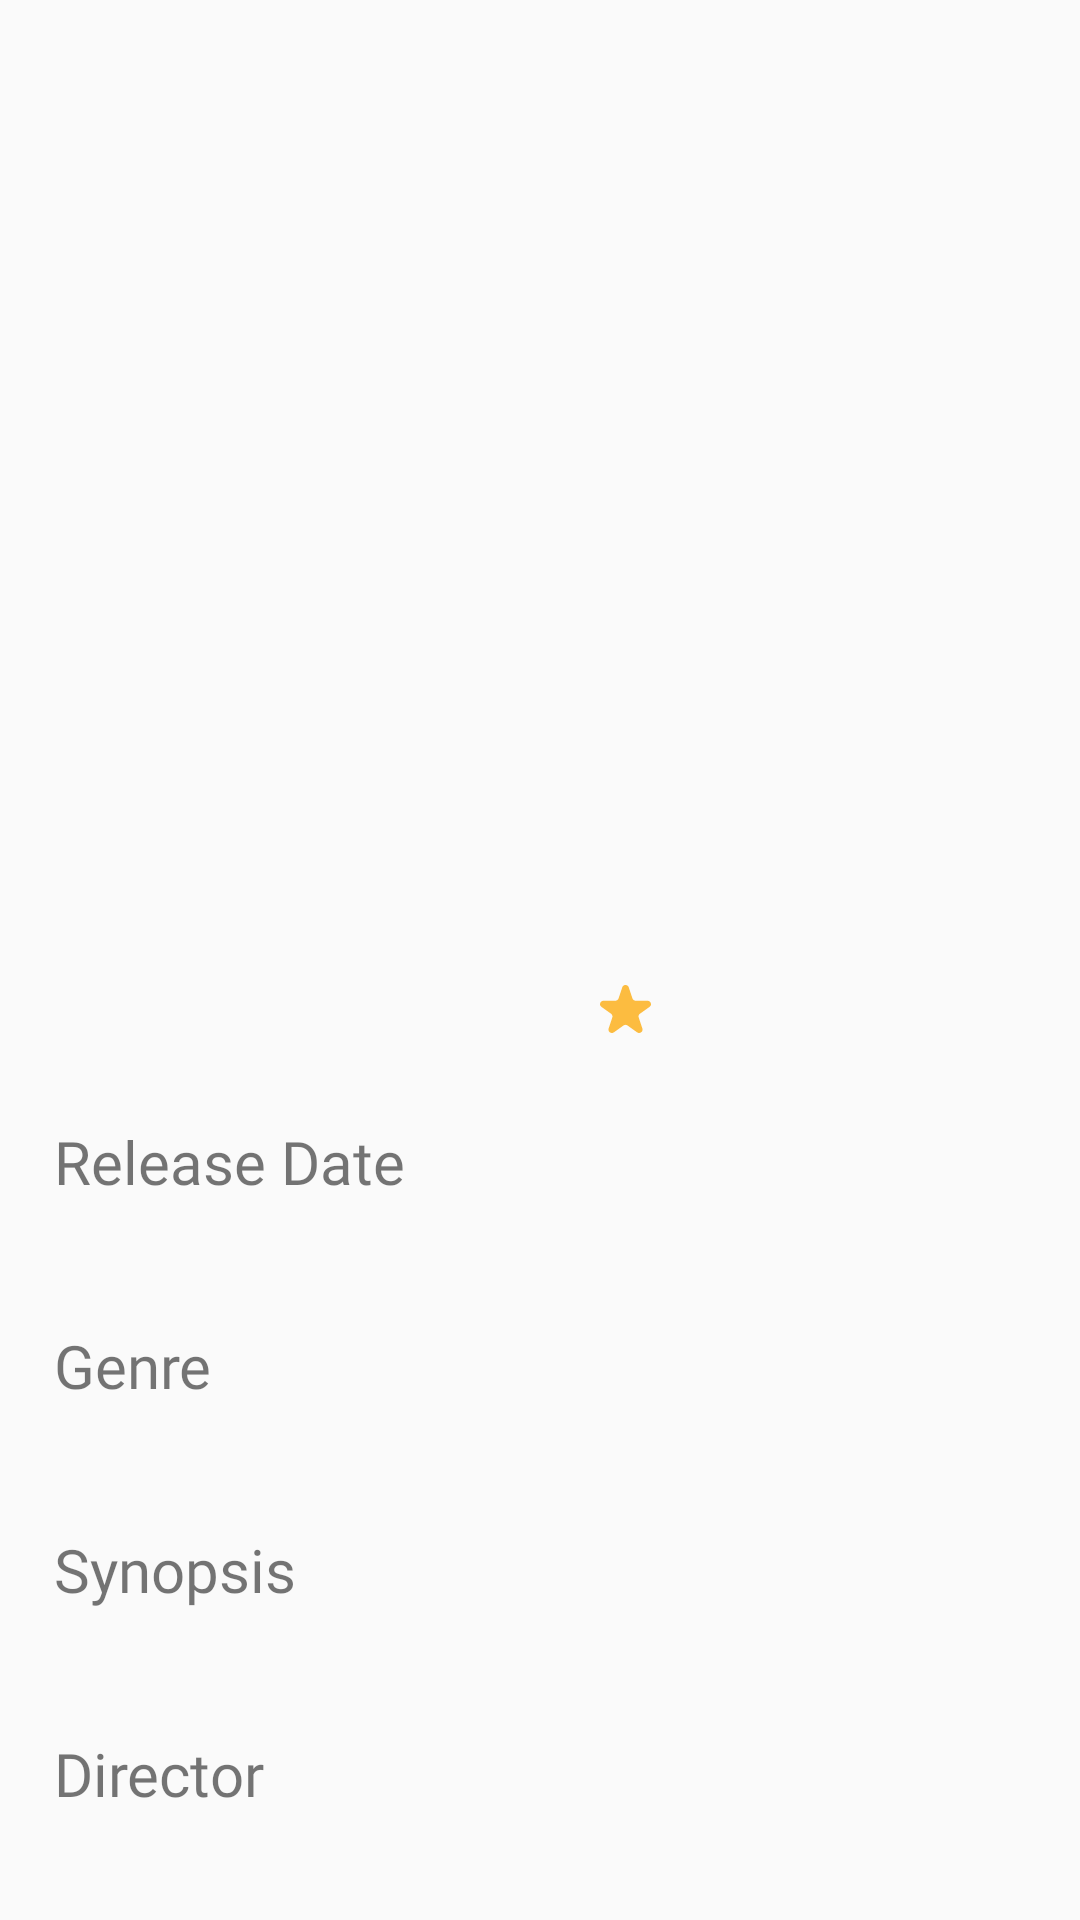

Screen size 1080x1920. Icon name, then its center in pixels as [x,y]:
rating: [625,1009]
